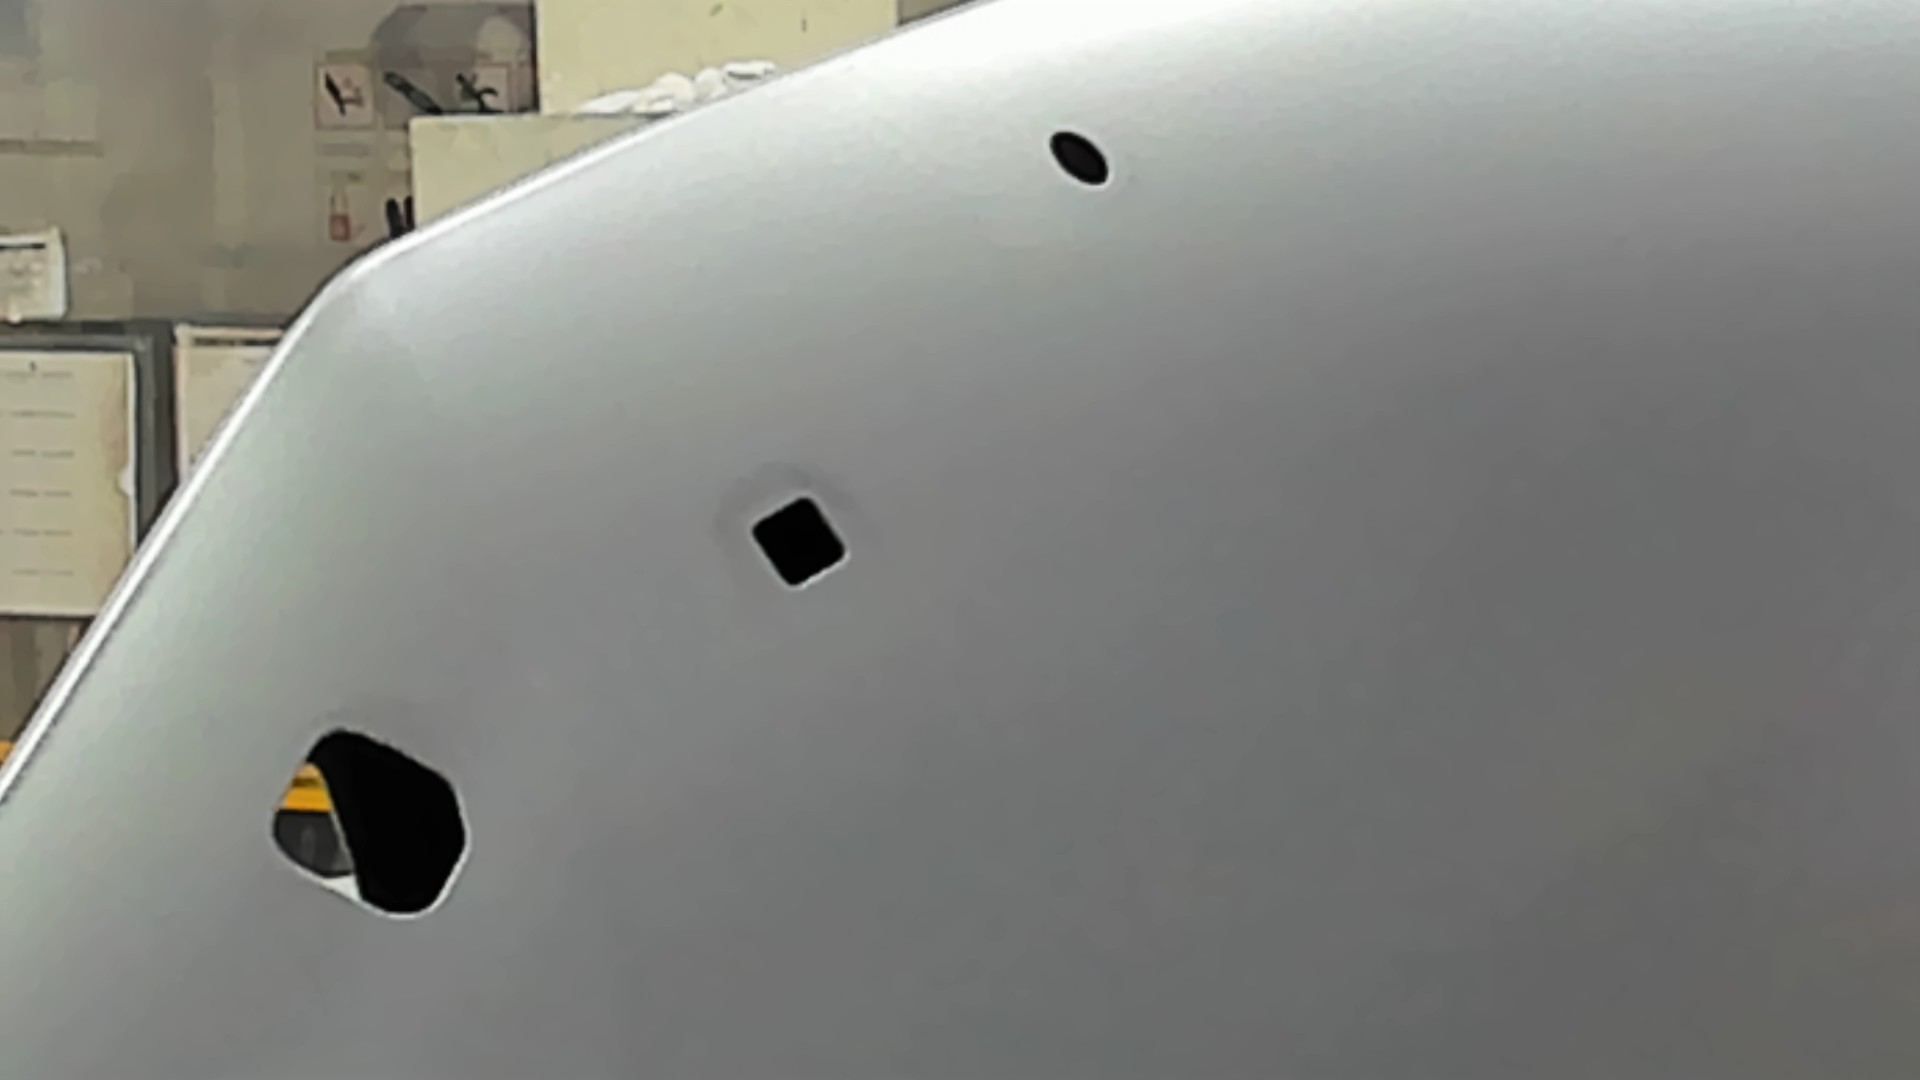chico: (1042, 124, 1114, 193)
grande: (256, 717, 477, 924)
mediano: (741, 488, 851, 596)
